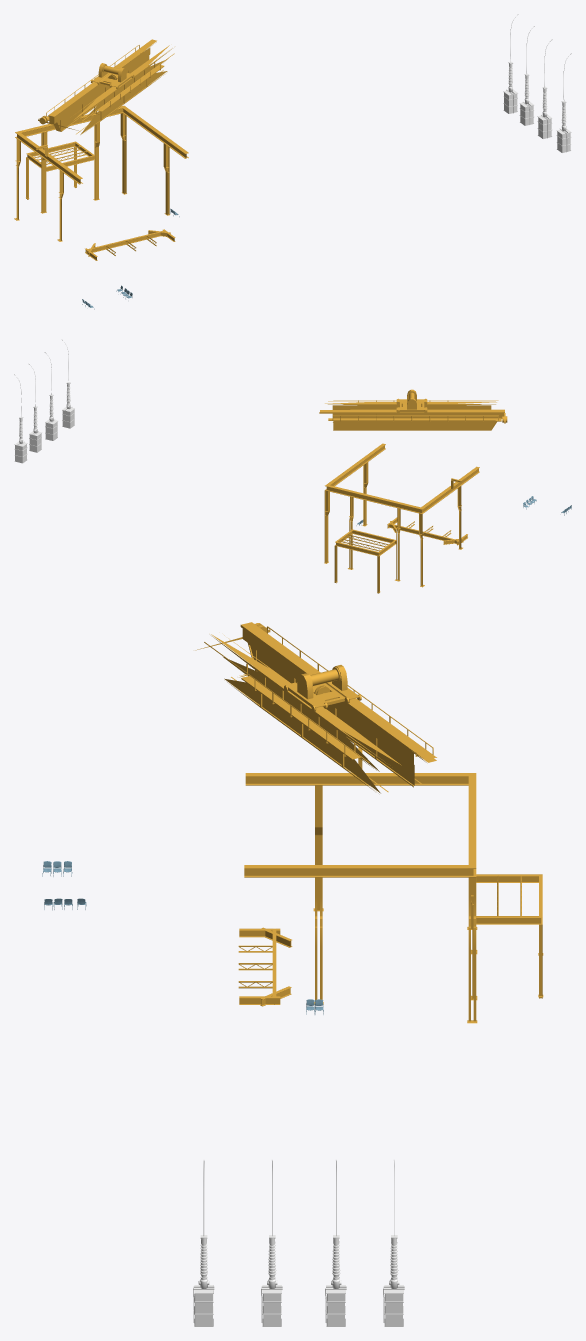
3 views of the same model, one above another, from view 1: azimuth 30°, elevation 25°; view 2: azimuth 150°, elevation 25°; view 3: azimuth 270°, elevation 25° (orthographic). The views are drawn at different scales.
Visible parts, largest first — view 1: n0_lr0_agg_merge_web_joist_001_0_fragment1_c0_-1, n0_lr0_agg_nomerge_current_transformer_color_0_fragment1; view 2: n0_lr0_agg_merge_web_joist_001_0_fragment1_c0_-1, n0_lr0_agg_nomerge_current_transformer_color_0_fragment1; view 3: n0_lr0_agg_merge_web_joist_001_0_fragment1_c0_-1, n0_lr0_agg_nomerge_current_transformer_color_0_fragment1.
Boxes of the visible parts, x1,y1,x2,y2 form: n0_lr0_agg_merge_web_joist_001_0_fragment1_c0_-1: [14, 39, 188, 260]; n0_lr0_agg_nomerge_current_transformer_color_0_fragment1: [503, 14, 571, 152]; n0_lr0_agg_merge_web_joist_001_0_fragment1_c0_-1: [319, 389, 507, 593]; n0_lr0_agg_nomerge_current_transformer_color_0_fragment1: [14, 339, 74, 463]; n0_lr0_agg_merge_web_joist_001_0_fragment1_c0_-1: [195, 622, 543, 1023]; n0_lr0_agg_nomerge_current_transformer_color_0_fragment1: [193, 1159, 404, 1326].
Size of the model in its own units: 3392 by 1058 by 1565.
